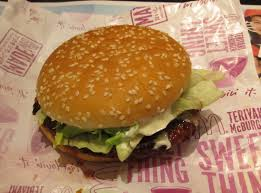hamburger: (32, 24, 215, 165)
